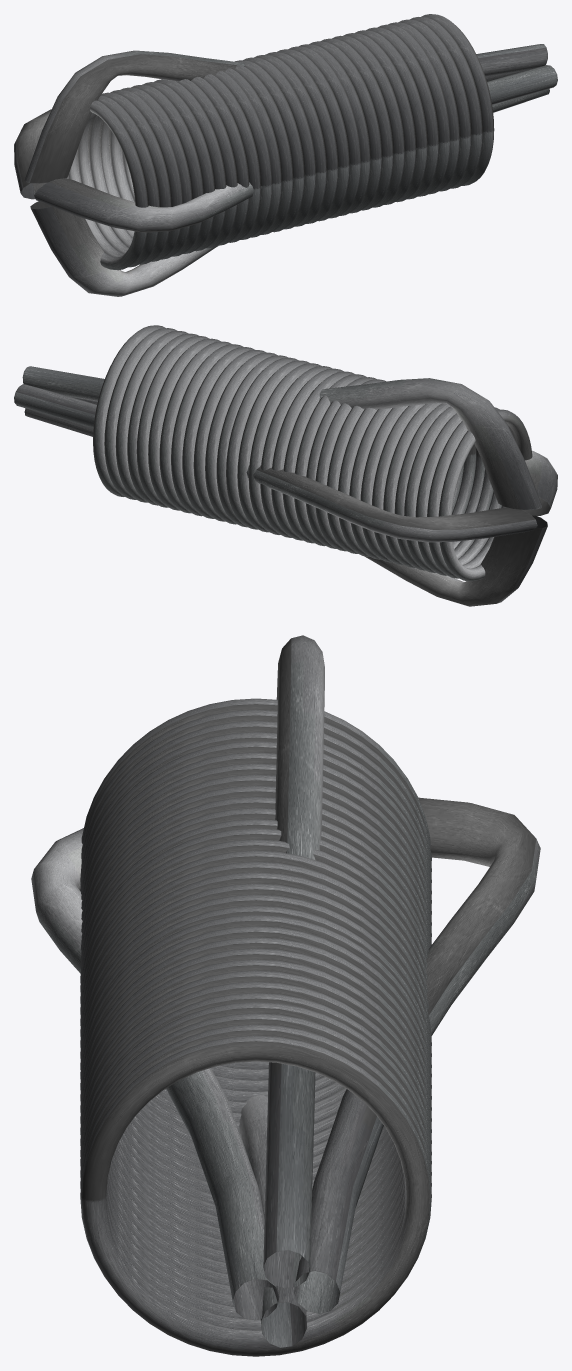
File: pieza3.fbx
3 renders of one model, top to bottom at view 1: azimuth 30°, elevation 25°; view 2: azimuth 150°, elevation 25°; view 3: azimuth 270°, elevation 25°, orthographic. The views are drawn at different scales.
Parts seen in each view (by area): view 1: BezierCurve.005; view 2: BezierCurve.005; view 3: BezierCurve.005.
Boxes of the visible parts, x1,y1,x2,y2 form: BezierCurve.005: (14,14,557,296); BezierCurve.005: (14,325,557,606); BezierCurve.005: (31,635,540,1356).
Size of the model in its own units: 407 by 173 by 174.
Materials: 36 (36 with a texture image).
